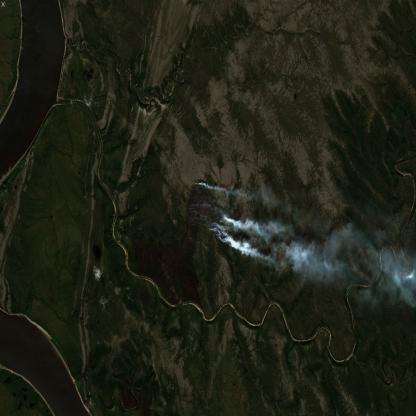fire: (188, 176, 236, 249)
